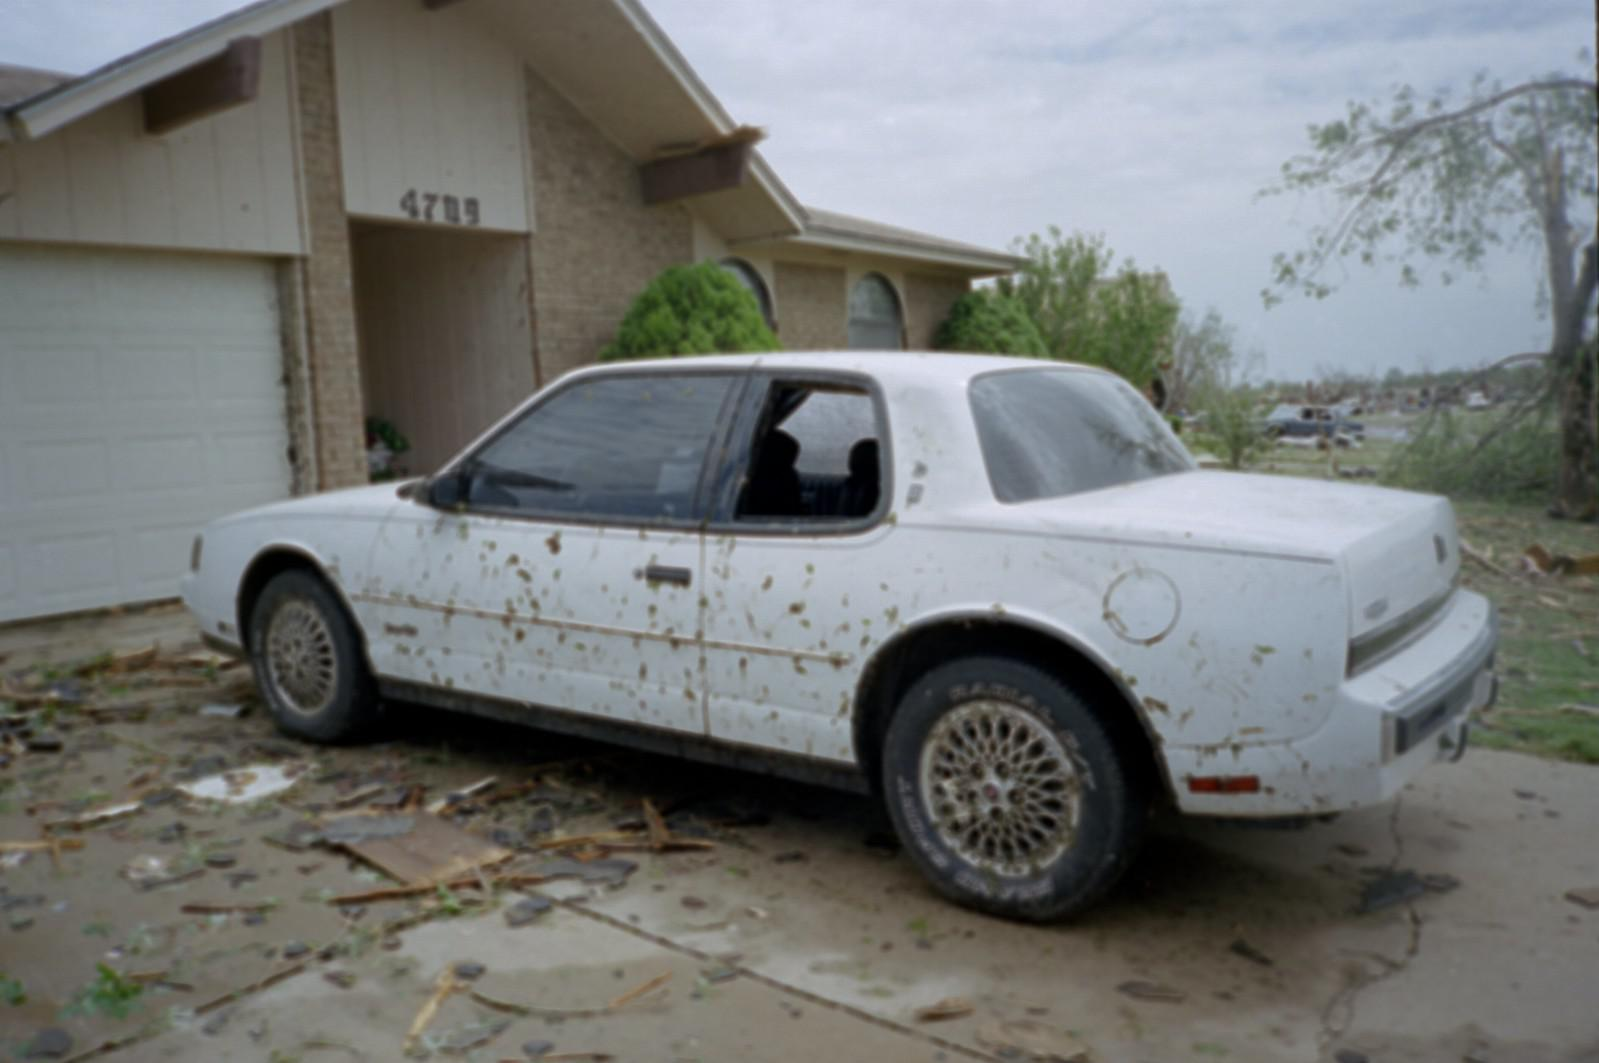doorouter-dent: (693, 383, 878, 725)
